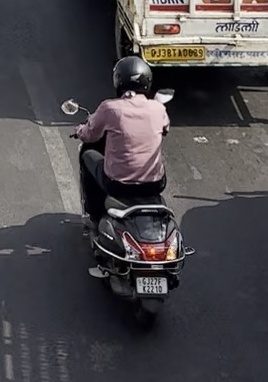BikeWithRider: (56, 50, 200, 328)
Helmet: (107, 51, 158, 101)
